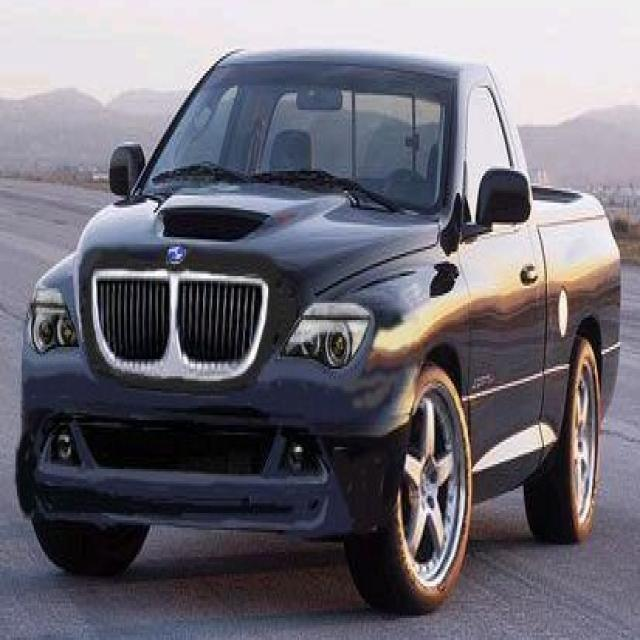CMT: (41, 58, 616, 572)
